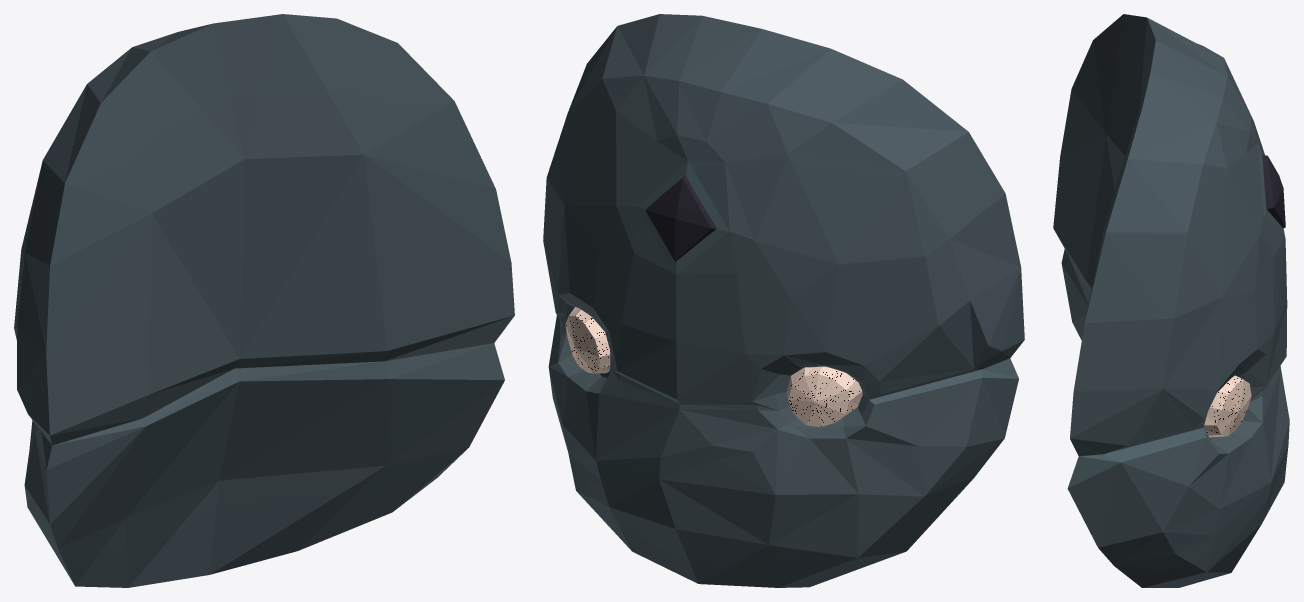
Rendered from CharSkyKid_Mask_AP13ScarB_01.glb.
The picture shows the model from 3 angles, left to right: view 1: azimuth 30°, elevation 25°; view 2: azimuth 150°, elevation 25°; view 3: azimuth 270°, elevation 25°; orthographic projection. The views are drawn at different scales.
Parts seen in each view (by area): view 1: CharSkyKid_Mask_AP13ScarB_01; view 2: CharSkyKid_Mask_AP13ScarB_01; view 3: CharSkyKid_Mask_AP13ScarB_01.
Part boxes in pixels (x1=…): CharSkyKid_Mask_AP13ScarB_01: x1=14, y1=14, x2=514, y2=587; CharSkyKid_Mask_AP13ScarB_01: x1=543, y1=14, x2=1024, y2=587; CharSkyKid_Mask_AP13ScarB_01: x1=1053, y1=14, x2=1289, y2=587.
Size of the model in its own units: 2.15 by 2.49 by 1.03.
Materials: 1 (1 with a texture image).
